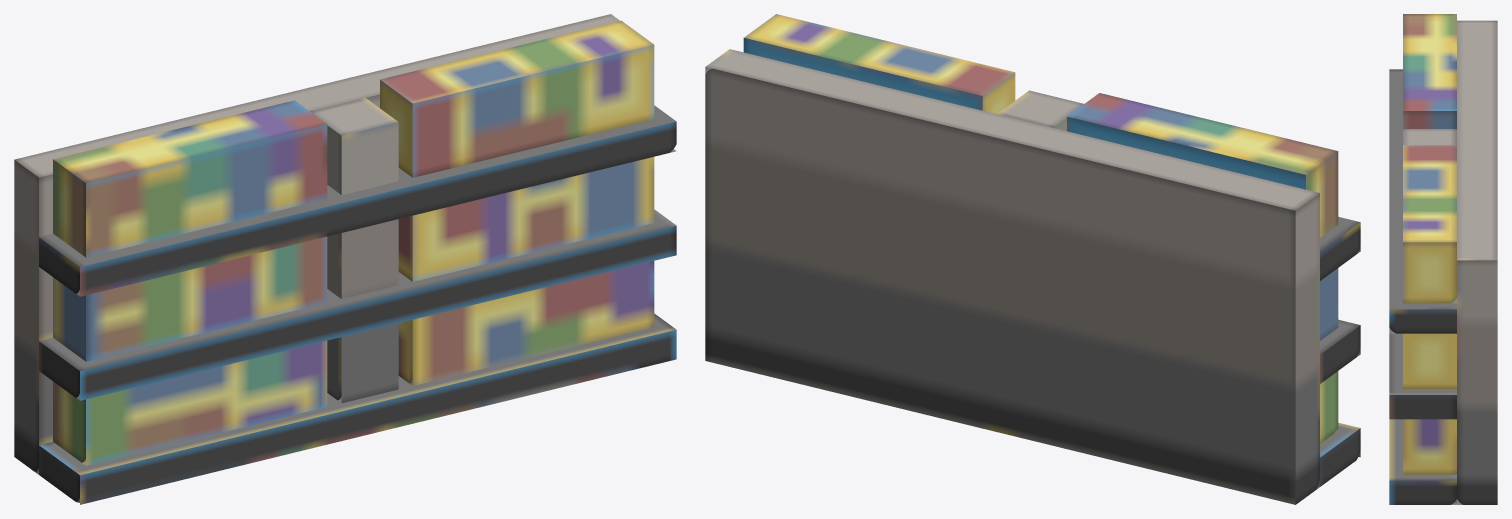
The model's file is Stall#2.fbx.
3 renders of one model, left to right at view 1: azimuth 30°, elevation 25°; view 2: azimuth 150°, elevation 25°; view 3: azimuth 270°, elevation 25°, orthographic. The views are drawn at different scales.
Visible parts, largest first — view 1: cube1, cube1_1, cube_1, cube_2, cube_3, cube3, cube2, cube, cube3_1, cube2_1, cube_4; view 2: cube, cube1, cube1_1, cube_4, cube_1, cube_2, cube_3, cube2, cube3; view 3: cube, cube1_1, cube1, cube_3, cube2_1, cube3_1, cube_2, cube_1, cube_4.
Part boxes in pixels (x1,y1,x2,y2): cube1: (53, 100, 327, 257); cube1_1: (380, 20, 654, 177); cube_1: (39, 313, 676, 504); cube_2: (39, 209, 676, 400); cube_3: (39, 105, 676, 296); cube3: (53, 340, 327, 465); cube2: (53, 236, 327, 361); cube: (14, 14, 619, 474); cube3_1: (398, 261, 654, 385); cube2_1: (398, 157, 654, 281); cube_4: (310, 98, 398, 403); cube: (705, 49, 1319, 504); cube1: (1067, 93, 1338, 237); cube1_1: (743, 14, 1015, 113); cube_4: (997, 90, 1083, 131); cube_1: (1318, 422, 1360, 486); cube_2: (1320, 319, 1360, 383); cube_3: (1320, 217, 1360, 280); cube2: (1320, 268, 1338, 340); cube3: (1320, 371, 1338, 443); cube: (1457, 20, 1497, 504); cube1_1: (1403, 145, 1456, 303); cube1: (1403, 14, 1456, 128); cube_3: (1389, 69, 1456, 333); cube2_1: (1403, 333, 1456, 388); cube3_1: (1403, 419, 1456, 474); cube_2: (1389, 333, 1456, 419); cube_1: (1389, 419, 1456, 504); cube_4: (1403, 129, 1456, 145).
Size of the model in its own units: 262 by 131 by 50.
Materials: 1 (1 with a texture image).
